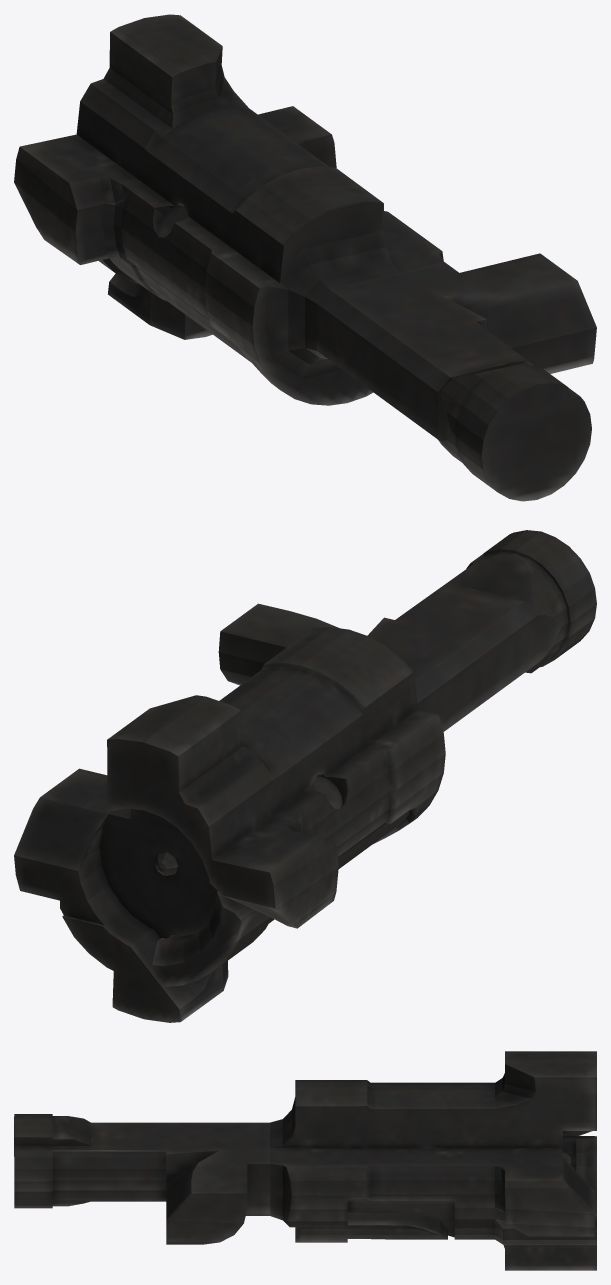
3 views of the same model, one above another, from view 1: azimuth 30°, elevation 25°; view 2: azimuth 150°, elevation 25°; view 3: azimuth 270°, elevation 25° (orthographic). The views are drawn at different scales.
Visible parts, largest first — view 1: TW_644674a13d52156624001fbc_PZ_Import; view 2: TW_644674a13d52156624001fbc_PZ_Import; view 3: TW_644674a13d52156624001fbc_PZ_Import.
Boxes of the visible parts, x1,y1,x2,y2 form: TW_644674a13d52156624001fbc_PZ_Import: (14,14,596,501); TW_644674a13d52156624001fbc_PZ_Import: (14,530,596,1022); TW_644674a13d52156624001fbc_PZ_Import: (14,1051,596,1270).
Size of the model in its own units: 0.0148 by 0.0343 by 0.0132.
1 material, 1 textured.
